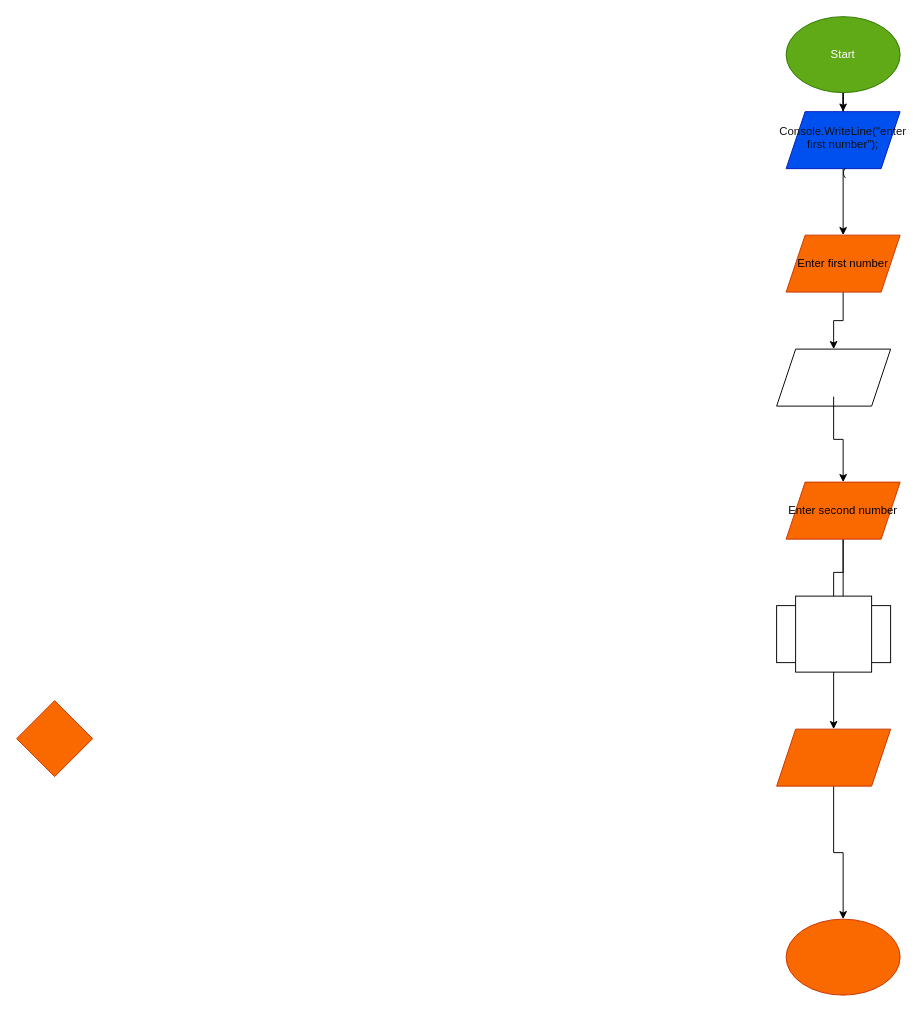
Image size: 922x1012. Some labels were removed from this diagram. Here are the shapes that lost their labels. From the top down, the centre of each, then its label:
point 833,377: Console.WriteLine("enter second number"); (
point 833,633: add two values together
point 842,956: End
